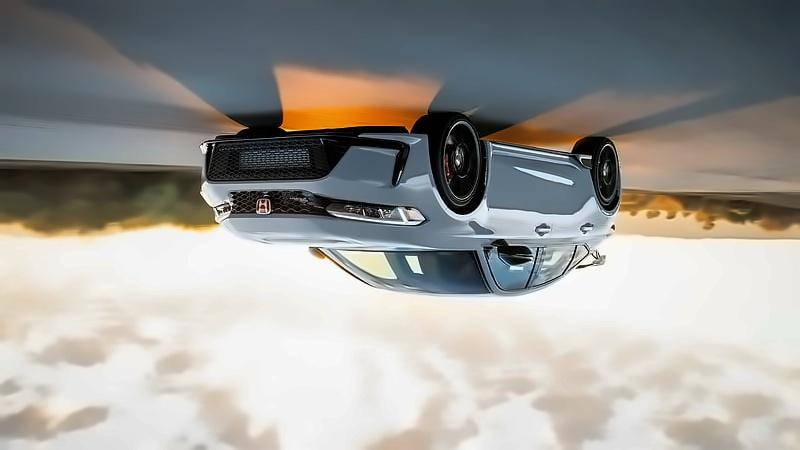Car hood: (215, 215, 483, 252)
Driver-s door - -F-R-: (483, 149, 552, 297)
Fender - -F-R-: (428, 142, 493, 254)
Fender - -R-R-: (589, 189, 615, 250)
Front bumper: (184, 123, 452, 209)
Headlight - -L-: (205, 199, 235, 226)
Headlight - -R-: (319, 197, 429, 230)
Passenger-s door - -R-R-: (542, 156, 595, 294)
Rear bumper: (606, 176, 631, 226)
Rear light - -R-: (605, 218, 621, 241)
Side bumper - -R-: (481, 135, 595, 173)
Side mirror - -R-: (489, 236, 537, 269)
